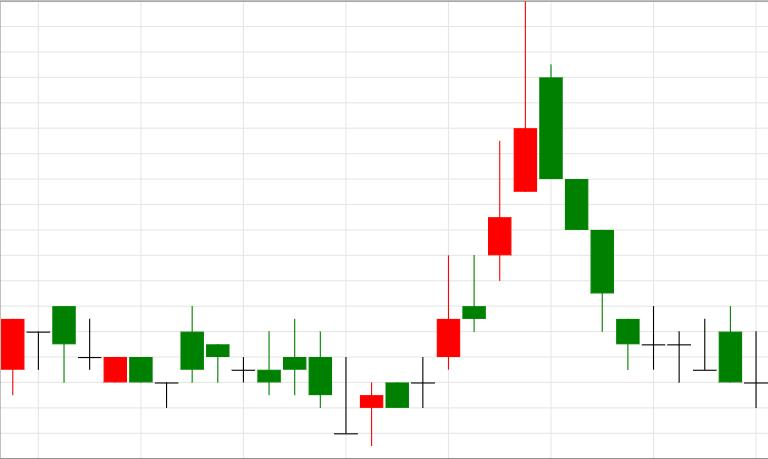three_black_crows_fall: (360, 2, 614, 446)
